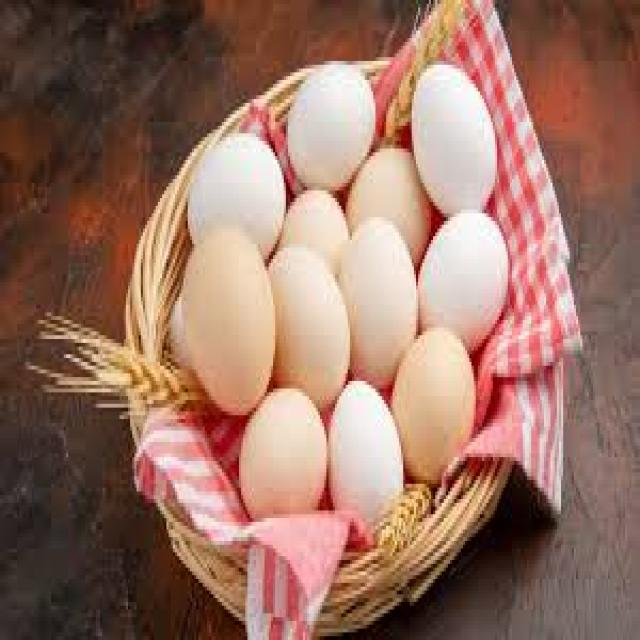Egg: (404, 50, 536, 232), (411, 202, 537, 384), (175, 222, 292, 410), (279, 46, 397, 202), (219, 377, 348, 517), (382, 325, 482, 499), (263, 245, 354, 418), (334, 216, 424, 386), (177, 121, 295, 247), (321, 383, 424, 522), (346, 136, 450, 264), (268, 182, 352, 266)
